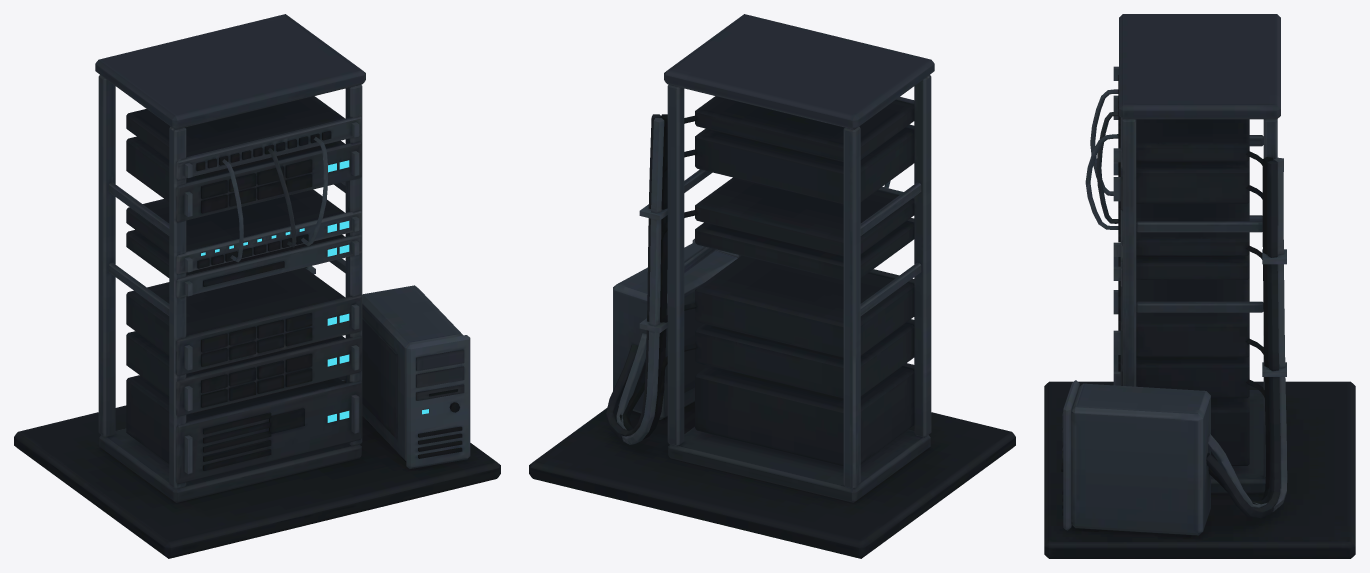
The model's file is server-rack.glb.
3 views of the same model, side by side, from view 1: azimuth 30°, elevation 25°; view 2: azimuth 150°, elevation 25°; view 3: azimuth 270°, elevation 25° (orthographic).
Parts seen in each view (by area): view 1: rack, leds; view 2: rack; view 3: rack.
Boxes of the visible parts, bbox=[...] form: rack: bbox=[14, 14, 500, 558]; leds: bbox=[201, 160, 428, 422]; rack: bbox=[529, 14, 1015, 558]; rack: bbox=[1044, 14, 1355, 558].
Bounding box in the file's own units: 2.5 × 2.88 × 2.
2 materials, 1 textured.
